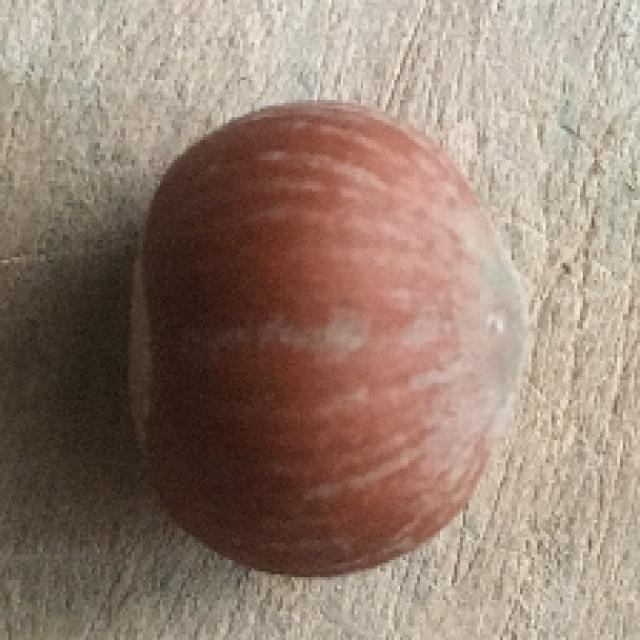qualityHazelnut: (133, 97, 528, 576)
